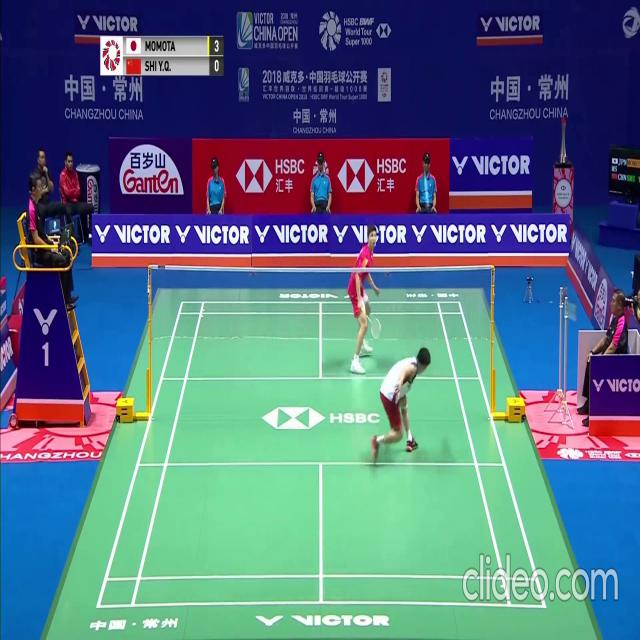Shuttlecock: (424, 173, 428, 181)
